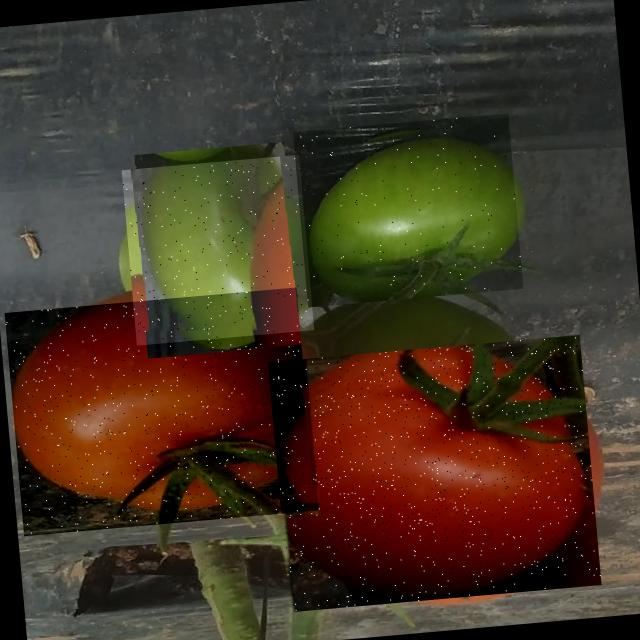Ripe Tomato: (268, 334, 601, 612), (4, 287, 316, 536)
Unripe Tomato: (292, 112, 523, 306), (121, 154, 314, 345)
